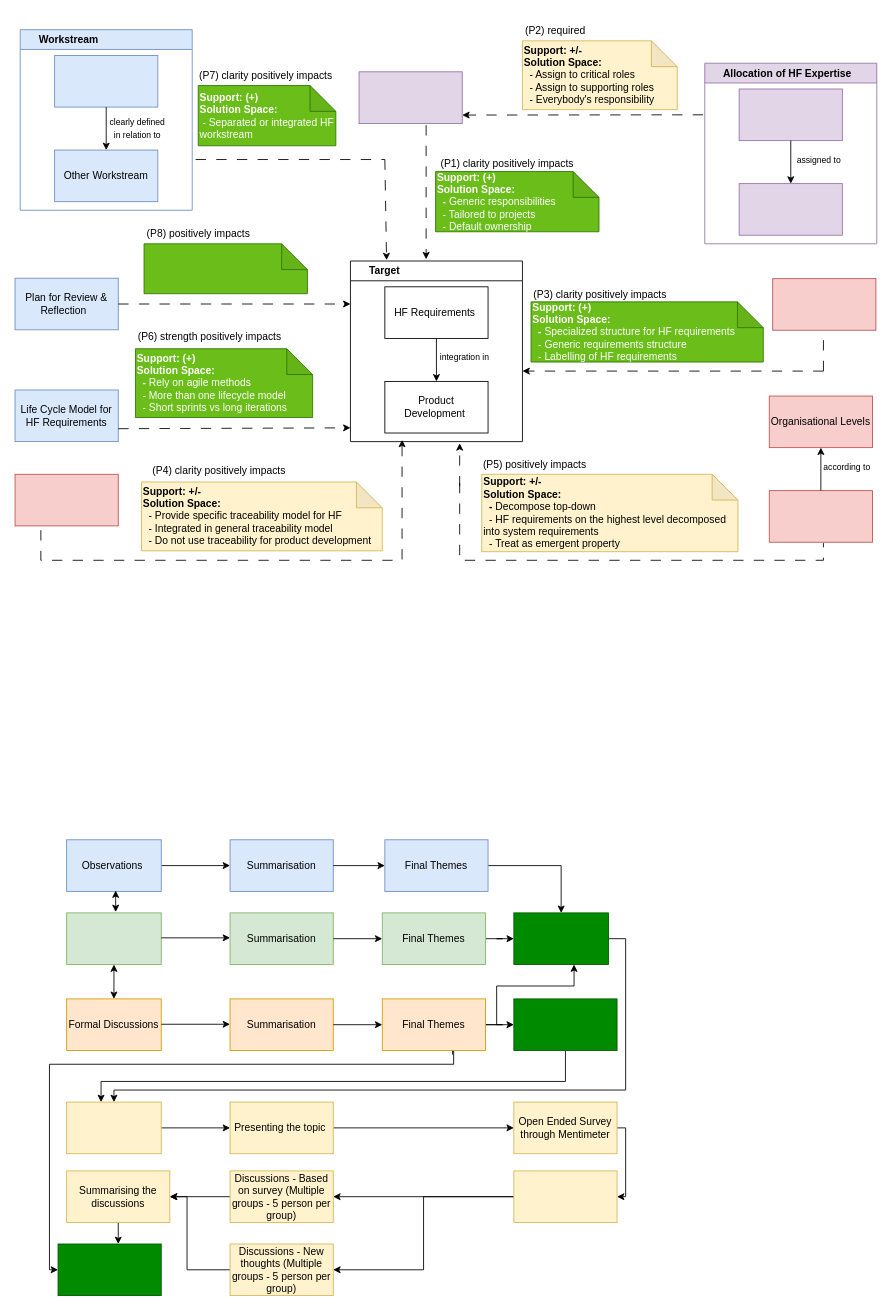
Image size: 892x1311. Some labels were removed from this diagram. Here are the shapes that lost their labels. From the top down, the centre of each, then its label:
At (106,81): "HF Workstream".
At (410,97): "HF Ownership and Responsibility".
At (790,114): "HF Expertise".
At (790,209): "Critical Roles".
At (225,268): "Support: (+) Solution Space: - Explicit plan for HF".
At (824,304): "HF Requirements Structure".
At (66,499): "HF Requirements Tracebility".
At (820,516): "Decomposition of HF Requirements".
At (113,938): "Document Analysis".
At (560,938): "Description of levels".
At (565,1024): "Examples of HF Req".
At (113,1127): "Workshop 3".
At (565,1196): "Survey Analysis".
At (109,1269): "Solution propositions".
